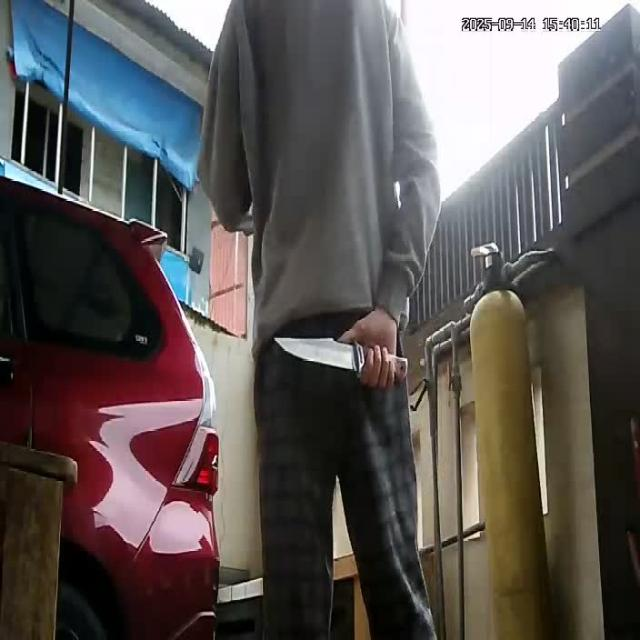senjata_tajam: (274, 332, 365, 374)
